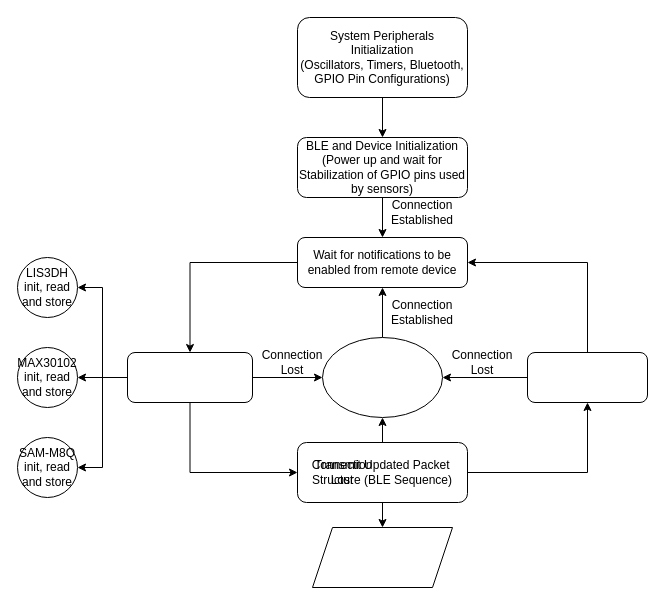
Some shapes in this 665 by 605 pixel diagram are drawn without their labels. Each missing label, with the centre of its shape:
"Bluetooth Receiver Mobile Application" belongs at pixel 382 557.
"IDLE (Wait for Connection)" belongs at pixel 382 377.
"Sensor Read/Write" belongs at pixel 189 377.
"Sleep until next 10 second Interrupt" belongs at pixel 587 377.
